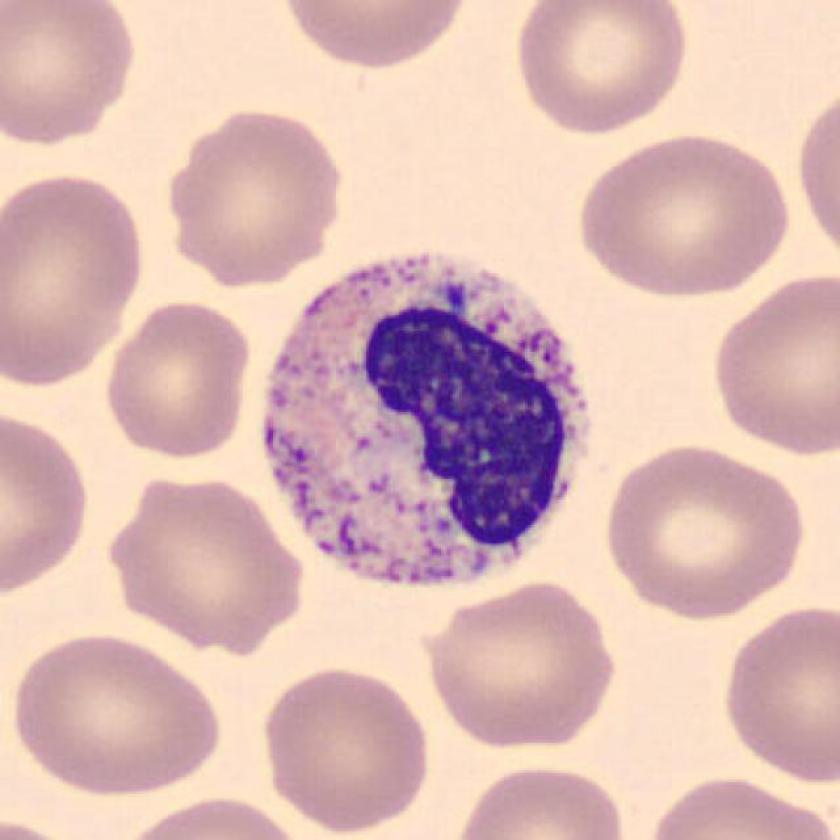neutrophil: (266, 256, 586, 588)
